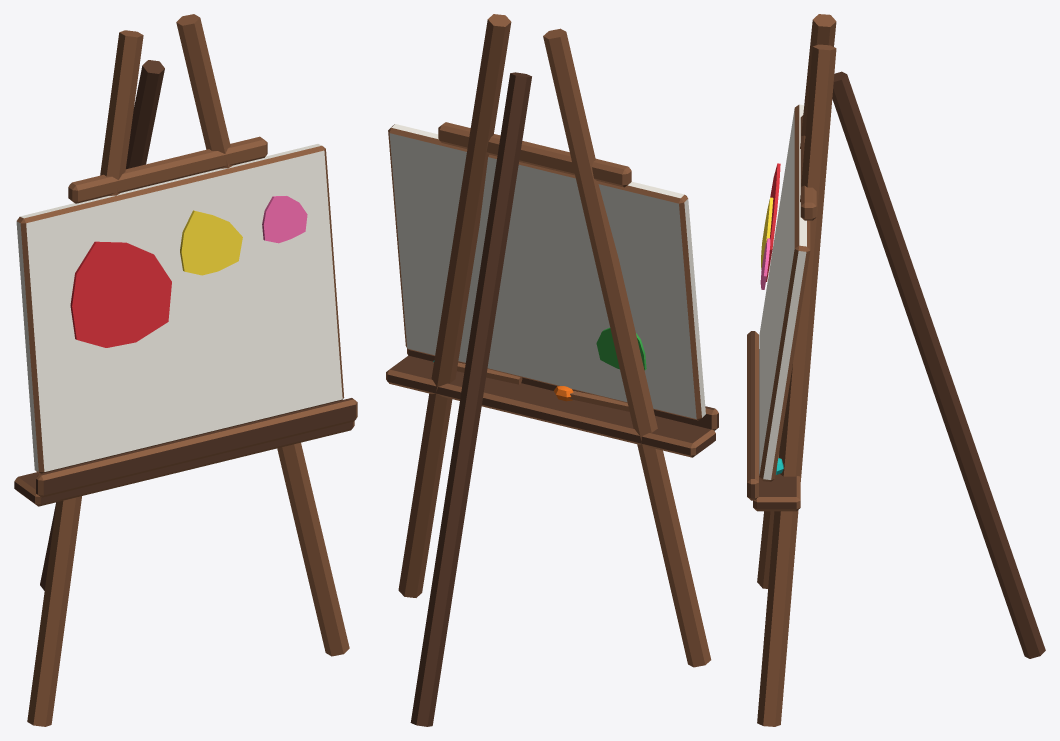
Rendered from paint_easel.glb.
3 renders of one model, left to right at view 1: azimuth 30°, elevation 25°; view 2: azimuth 150°, elevation 25°; view 3: azimuth 270°, elevation 25°, orthographic. The views are drawn at different scales.
Visible parts, largest first — view 1: paint_easel; view 2: paint_easel; view 3: paint_easel.
Part boxes in pixels (x1=…): paint_easel: x1=14, y1=14, x2=357, y2=726; paint_easel: x1=386, y1=14, x2=718, y2=726; paint_easel: x1=747, y1=14, x2=1045, y2=726.
Bounding box in the file's own units: 0.9 × 1.73 × 0.7517.
